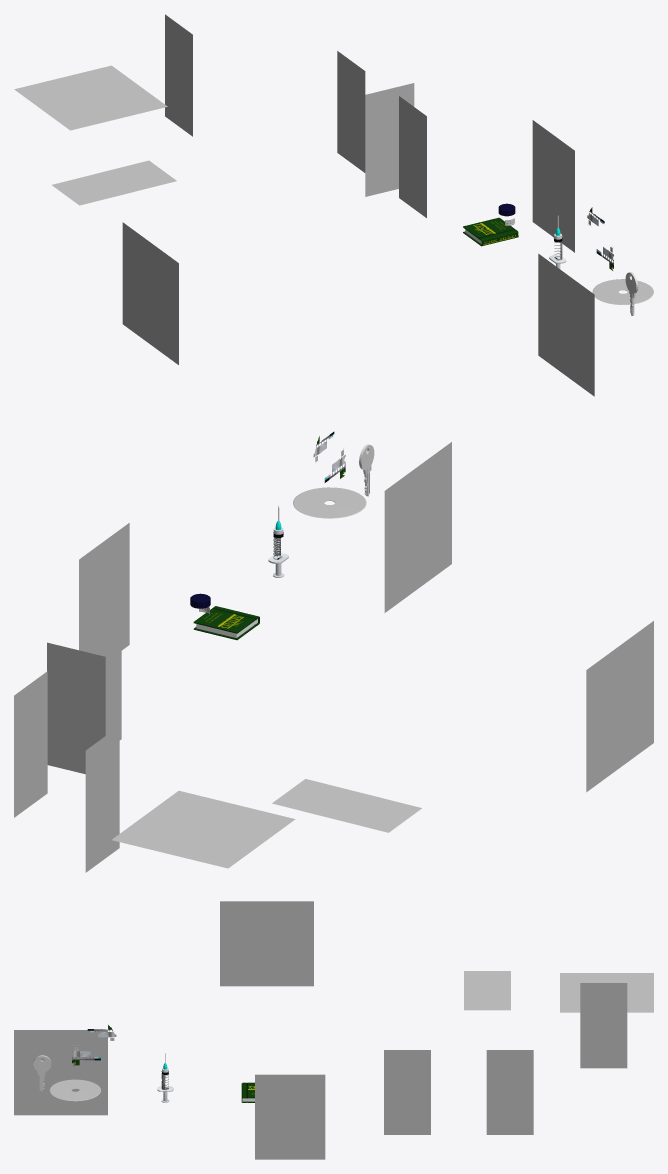
The model's file is FINALNEEDLE.fbx.
The picture shows the model from 3 angles, top to bottom: view 1: azimuth 30°, elevation 25°; view 2: azimuth 150°, elevation 25°; view 3: azimuth 270°, elevation 25°; orthographic projection. The views are drawn at different scales.
Visible parts, largest first — view 1: Key (2), extend left side, shopping, CD, images, Needle.001, Needle, Photos, Bookscale, Bookscale.001, Cylinder, Cube; view 2: shopping, Key (2), extend left side, CD, Needle.001, images, Bookscale, Needle, Bookscale.001, Photos, Cylinder, Cube; view 3: shopping, Key (2), extend left side, images, Bookscale, Needle, Photos, CD, Bookscale.001, Cylinder.
Part boxes in pixels (<box>): Key (2), extend left side: <box>538,253,594,396</box>; shopping: <box>122,222,178,364</box>; CD: <box>14,65,167,130</box>; images: <box>532,120,574,252</box>; Needle.001: <box>365,83,414,196</box>; Needle: <box>337,51,365,172</box>; Photos: <box>399,96,426,217</box>; Bookscale: <box>165,14,192,136</box>; Bookscale.001: <box>52,160,176,205</box>; Cylinder: <box>592,279,653,304</box>; Cube: <box>463,217,518,246</box>; shopping: <box>586,621,653,792</box>; Key (2), extend left side: <box>384,442,451,612</box>; CD: <box>112,790,295,868</box>; Needle.001: <box>47,642,105,774</box>; images: <box>79,523,129,652</box>; Bookscale: <box>85,726,119,872</box>; Needle: <box>14,671,47,817</box>; Bookscale.001: <box>272,779,421,832</box>; Photos: <box>87,617,121,740</box>; Cylinder: <box>293,487,366,518</box>; Cube: <box>193,606,259,640</box>; shopping: <box>220,901,313,986</box>; Key (2), extend left side: <box>14,1030,107,1115</box>; images: <box>255,1074,325,1159</box>; Bookscale: <box>580,983,627,1068</box>; Needle: <box>486,1050,533,1134</box>; Photos: <box>384,1050,430,1134</box>; CD: <box>560,973,653,1012</box>; Bookscale.001: <box>464,971,510,1010</box>; Cylinder: <box>49,1079,100,1101</box>.
Bounding box in the file's own units: 427 × 132 × 681.
